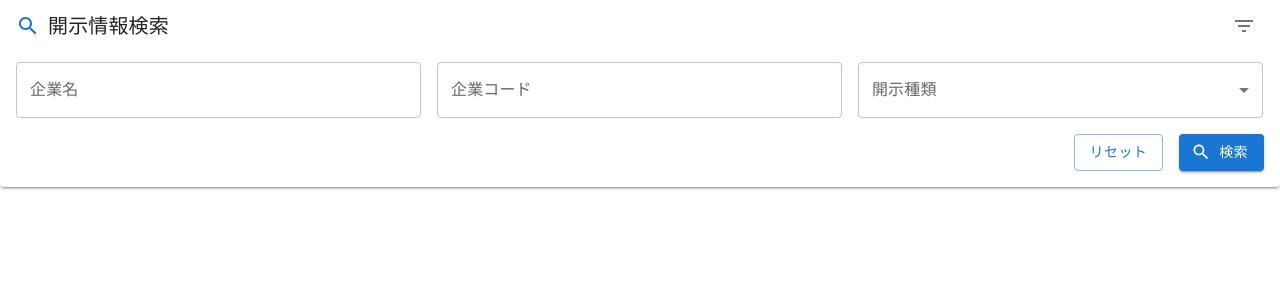
Test: SearchFilter › 開示種類の一覧を取得して表示する
This screenshot has width=1280, height=308.
# 開示種類のセレクトボックスをクリック
Press the mouse on the dropdown named "開示種類" at (1060, 90), box [858,62,1263,118]
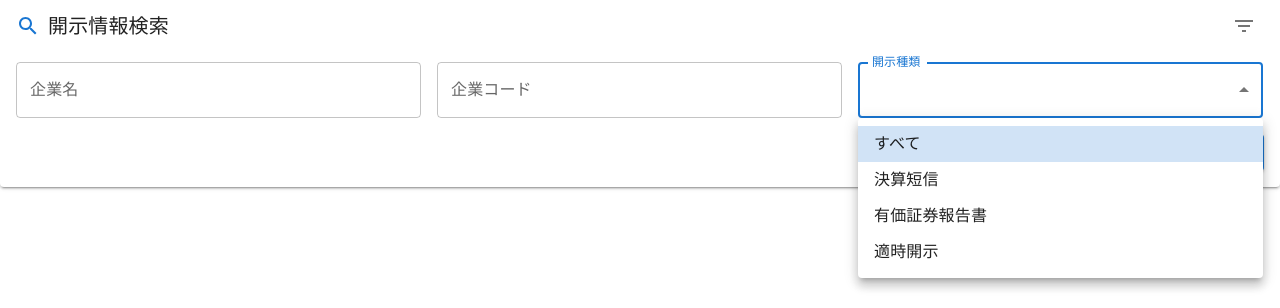
Expected: the option "決算短信" is shown, [874,170,939,189]
Expected: the option "有価証券報告書" is shown, [874,206,987,225]
Expected: the option "適時開示" is shown, [874,242,939,261]
